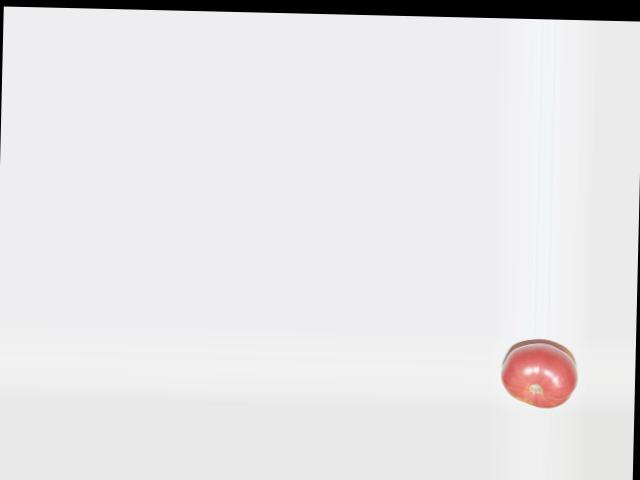tomato: (500, 343, 579, 409)
